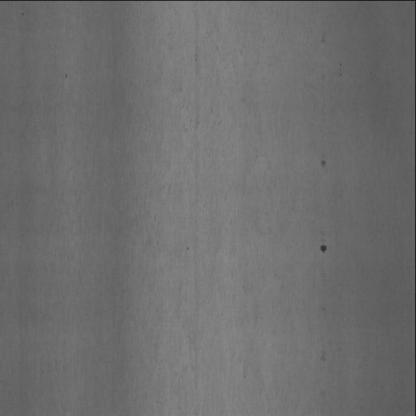oil_spot: (314, 230, 331, 265), (318, 334, 329, 364), (319, 144, 330, 166), (320, 20, 329, 43)
